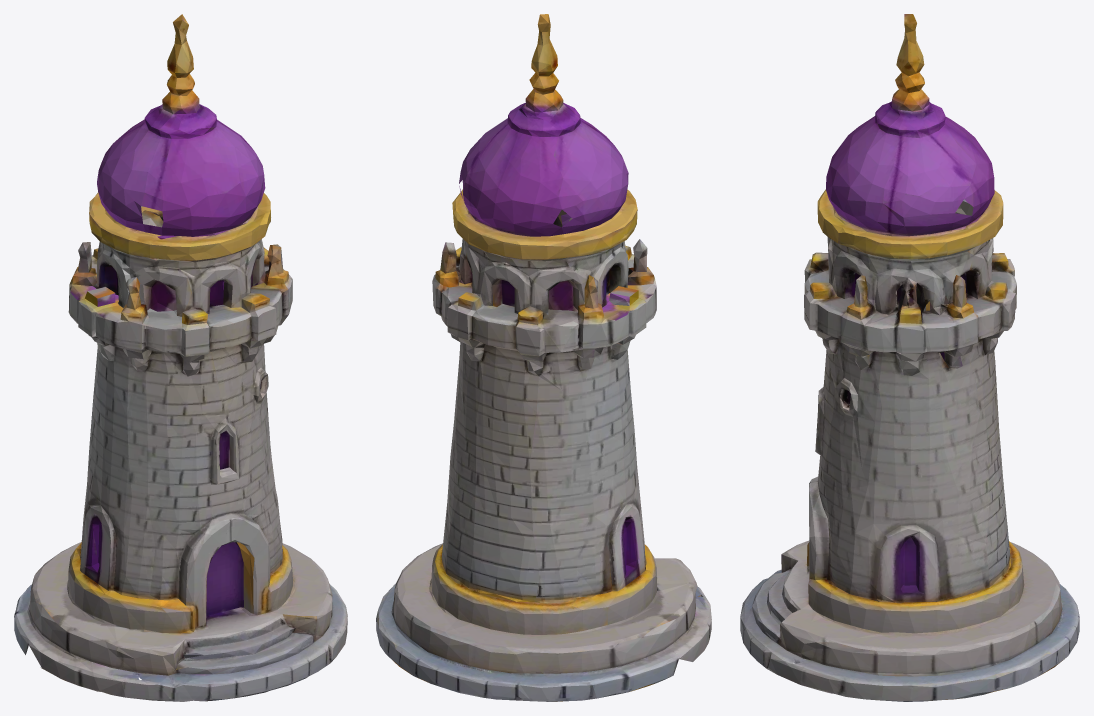
Rendered from magic_tower_4.glb.
3 views of the same model, side by side, from view 1: azimuth 30°, elevation 25°; view 2: azimuth 150°, elevation 25°; view 3: azimuth 270°, elevation 25° (orthographic).
Size of the model in its own units: 0.9677 by 1.98 by 0.9819.
1 material, 1 textured.
